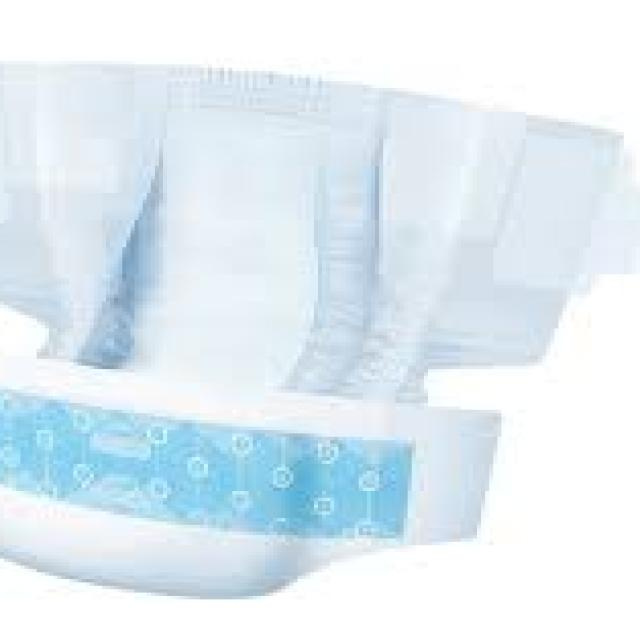organic: (15, 38, 606, 607)
